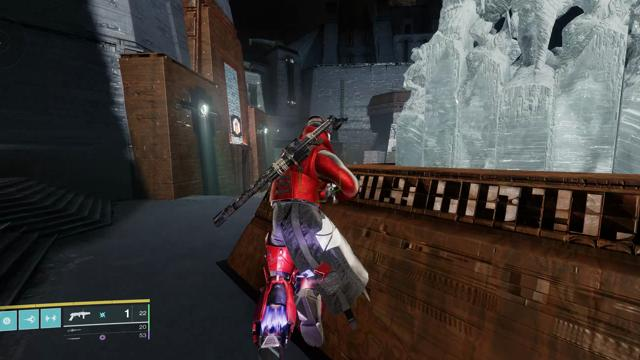worship: (233, 118, 240, 134)
